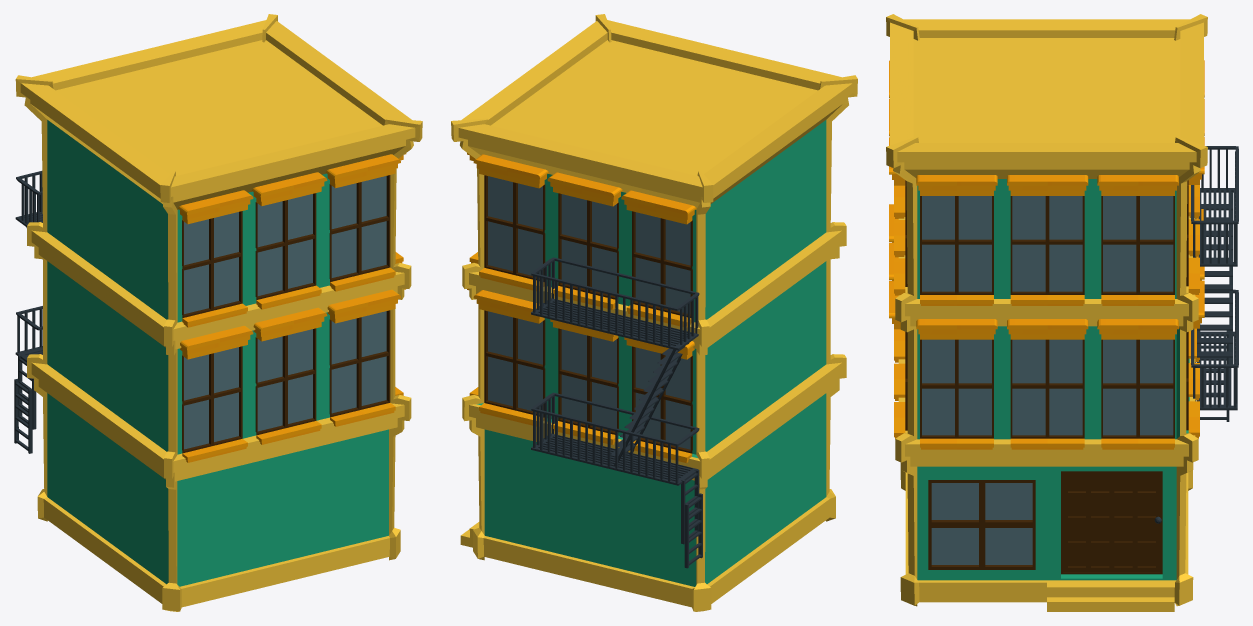
File: 3-Ladder Yellow&Green.fbx
3 renders of one model, left to right at view 1: azimuth 30°, elevation 25°; view 2: azimuth 150°, elevation 25°; view 3: azimuth 270°, elevation 25°, orthographic. The views are drawn at different scales.
Visible parts, largest first — view 1: Cube.006; view 2: Cube.006; view 3: Cube.006.
Boxes of the visible parts, box(x1,y1,x2,y2) form: Cube.006: box(14, 14, 422, 611); Cube.006: box(451, 14, 857, 611); Cube.006: box(886, 14, 1238, 611).
Bounding box in the file's own units: 1558 × 1435 × 2274.
